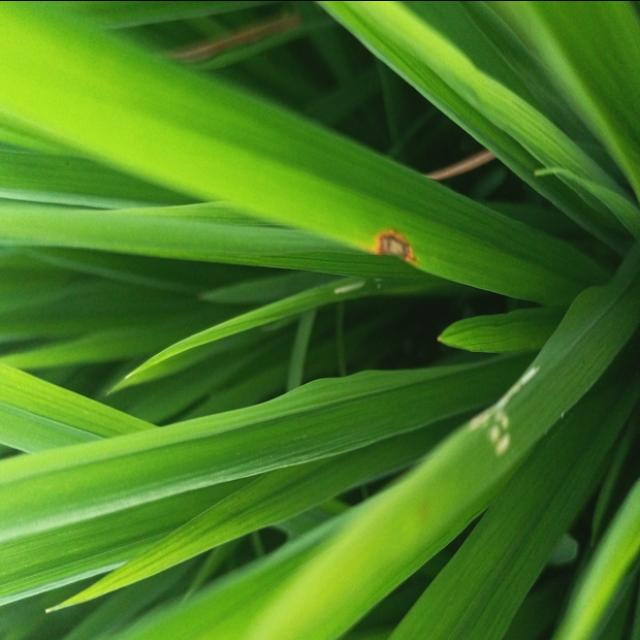Penggulung Daun: (454, 346, 548, 461)
brown spot: (363, 217, 429, 274)
